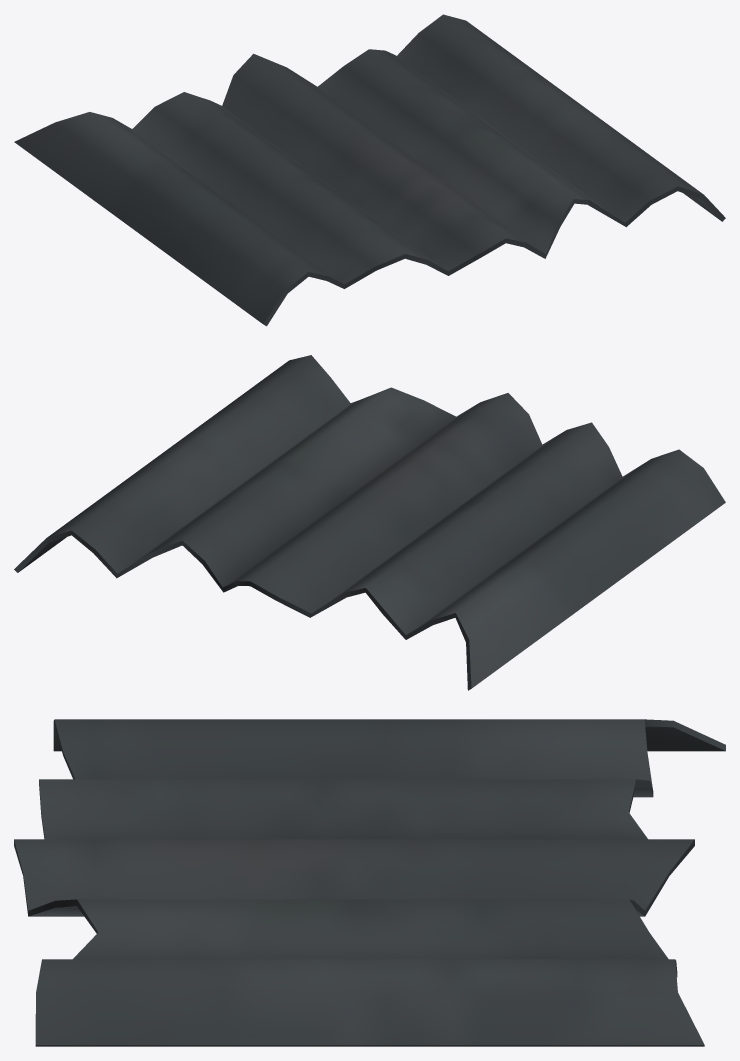
The model's file is slate_short_damaged.obj.
3 views of the same model, one above another, from view 1: azimuth 30°, elevation 25°; view 2: azimuth 150°, elevation 25°; view 3: azimuth 270°, elevation 25° (orthographic). The views are drawn at different scales.
Visible parts, largest first — view 1: slate_short_damaged__EXPORT_TEMP; view 2: slate_short_damaged__EXPORT_TEMP; view 3: slate_short_damaged__EXPORT_TEMP.
Boxes of the visible parts, <box> form: slate_short_damaged__EXPORT_TEMP: <box>14,14,725,326</box>; slate_short_damaged__EXPORT_TEMP: <box>14,355,725,690</box>; slate_short_damaged__EXPORT_TEMP: <box>14,719,725,1046</box>.
Bounding box in the file's own units: 1 × 0.0925 × 1.
